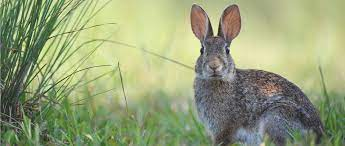rabbit: (187, 3, 329, 146)
